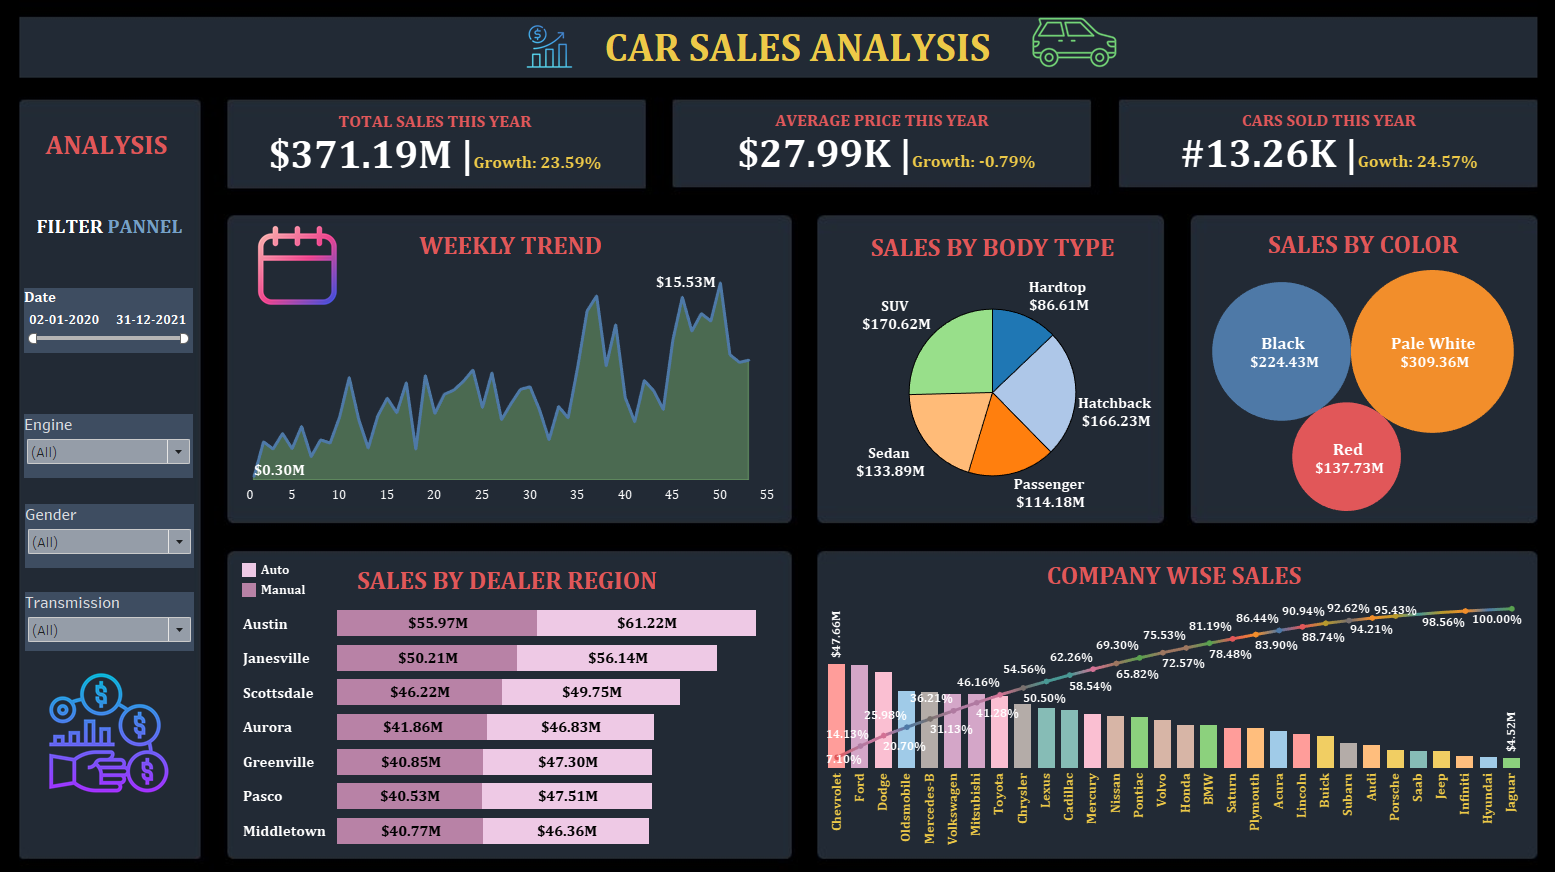

What the dashboard file says about the page in this screenshot:
{"tool":"tableau","page":{"name":"Dashboard 1","canvas":[1600,900],"ordinal":0},"visuals":[{"type":"image","param":"D:/PROJECTS/TABLEAU/Car Icon.png","box":[1013,4,164,100]},{"type":"image","param":"D:/PROJECTS/TABLEAU/Car Sales Background.jpg","box":[8,8,1584,884]},{"type":"image","param":"D:/PROJECTS/TABLEAU/Sales Icon.png","box":[523,33,94,50]},{"type":"text","box":[612,35,413,47]},{"type":"worksheet","title":"AVERAGE_PRICE","mark":"Automatic","box":[702,116,402,77]},{"type":"worksheet","title":"TOTAL_SALES","mark":"Automatic","box":[255,117,402,77]},{"type":"worksheet","title":"CARS_SOLD","mark":"Automatic","box":[1149,119,401,71]},{"type":"text","box":[63,141,129,30]},{"type":"text","box":[54,223,151,30]},{"type":"image","param":"D:/PROJECTS/TABLEAU/calendar.png","box":[253,233,130,88]},{"type":"worksheet","title":"SALES_BY_COLOR","mark":"Circle","box":[1220,237,328,286]},{"type":"worksheet","title":"WEEKLY_TREND","mark":"Area","rows":["Calculation_92042331512573952","Calculation_92042331512573952"],"cols":["Date"],"box":[265,238,533,284]},{"type":"worksheet","title":"SALES_BY_TYPE","mark":"Pie","box":[849,240,329,284]},{"type":"filter","title":"WEEKLY_TREND","param":"[federated.0wa1jtl0yzokin1ba699n1hs66yu].[none:Date:qk]","box":[45,300,169,65]},{"type":"filter","title":"WEEKLY_TREND","param":"[federated.0wa1jtl0yzokin1ba699n1hs66yu].[none:Engine:nk]","box":[45,426,169,64]},{"type":"filter","title":"WEEKLY_TREND","param":"[federated.0wa1jtl0yzokin1ba699n1hs66yu].[none:Gender:nk]","box":[46,516,169,64]},{"type":"worksheet","title":"COMPANY_SALES","mark":"Line","rows":["Price ($)","Price ($)"],"cols":["Company"],"box":[846,568,698,292]},{"type":"legend","title":"SALES_BY_REGION","param":"[federated.0wa1jtl0yzokin1ba699n1hs66yu].[none:Transmission:nk]","box":[260,572,79,45]},{"type":"worksheet","title":"SALES_BY_REGION","mark":"Automatic","rows":["Dealer_Region"],"cols":["Price ($)"],"box":[258,573,540,287]},{"type":"filter","title":"WEEKLY_TREND","param":"[federated.0wa1jtl0yzokin1ba699n1hs66yu].[none:Transmission:nk]","box":[46,604,169,59]},{"type":"image","param":"D:/PROJECTS/TABLEAU/Cars Sold Icon.png","box":[47,683,166,123]}]}

Visuals, with their boxes in screenshot pixels (x1, y1, x2, y2), scaled from the page's 1600x900 canvas onto the 1555x872 screenshot:
image: box=[985, 4, 1144, 101]
image: box=[8, 8, 1547, 864]
image: box=[508, 32, 600, 80]
text: box=[595, 34, 996, 79]
"AVERAGE_PRICE" worksheet: box=[682, 112, 1073, 187]
"TOTAL_SALES" worksheet: box=[248, 113, 639, 188]
"CARS_SOLD" worksheet: box=[1117, 115, 1506, 184]
text: box=[61, 137, 187, 166]
text: box=[52, 216, 199, 245]
image: box=[246, 226, 372, 311]
"SALES_BY_COLOR" worksheet (Circle marks): box=[1186, 230, 1504, 507]
"WEEKLY_TREND" worksheet (Area marks): box=[258, 231, 776, 506]
"SALES_BY_TYPE" worksheet (Pie marks): box=[825, 233, 1145, 508]
"WEEKLY_TREND" filter: box=[44, 291, 208, 354]
"WEEKLY_TREND" filter: box=[44, 413, 208, 475]
"WEEKLY_TREND" filter: box=[45, 500, 209, 562]
"COMPANY_SALES" worksheet (Line marks): box=[822, 550, 1501, 833]
"SALES_BY_REGION" legend: box=[253, 554, 329, 598]
"SALES_BY_REGION" worksheet: box=[251, 555, 776, 833]
"WEEKLY_TREND" filter: box=[45, 585, 209, 642]
image: box=[46, 662, 207, 781]
